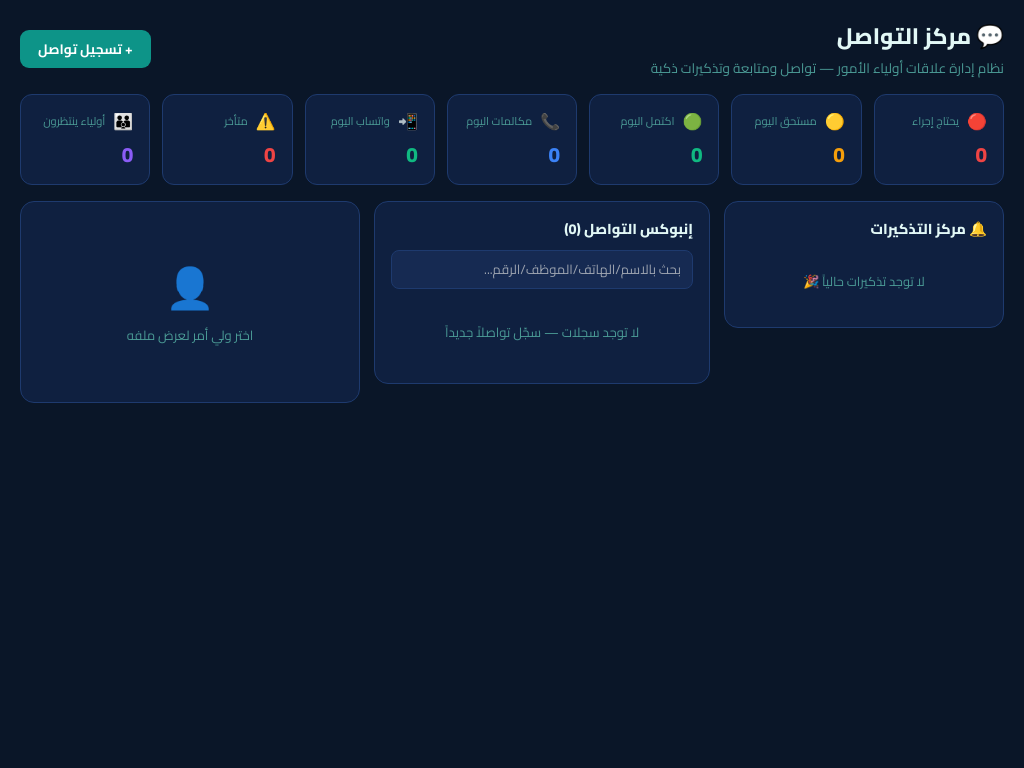
it: CommunicationPage — server-truth write path (create only) › leaves local communications state unchanged and shows the real error when create fails
Step 1. Click the button "+ تسجيل تواصل" → click(85, 49), box left=20, top=30, right=151, bottom=68
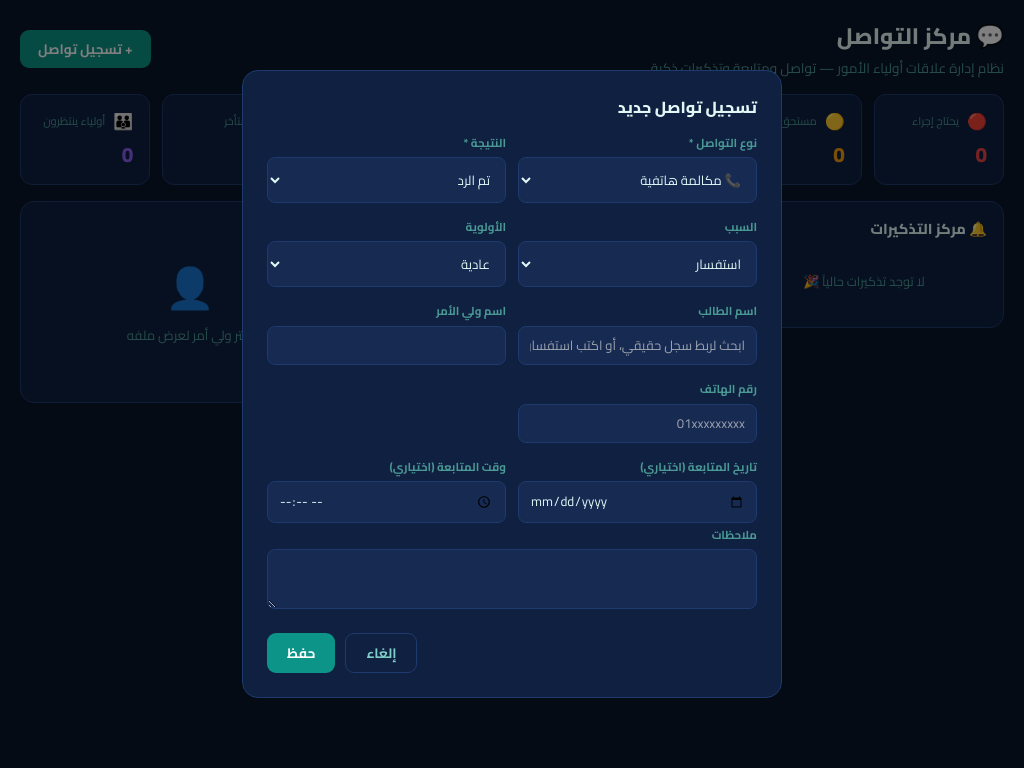
Step 2. Click the button "حفظ" → click(301, 653), box left=267, top=633, right=335, bottom=673
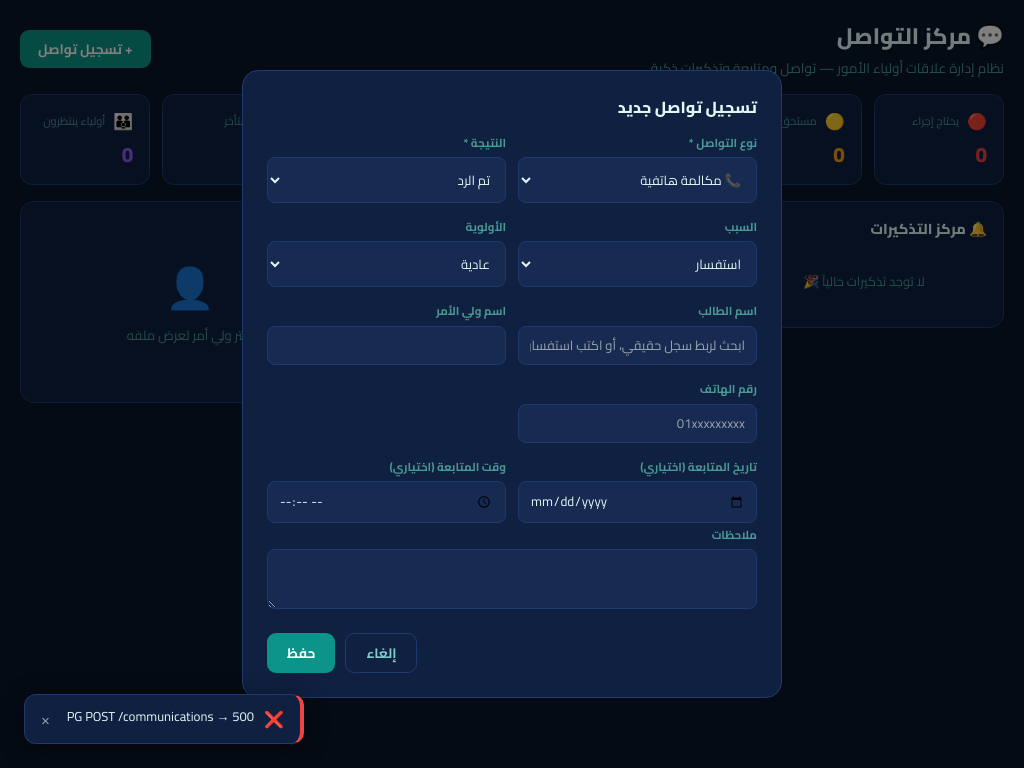
Check: the text "PG POST /communications → 500" is shown, box left=60, top=707, right=254, bottom=726
